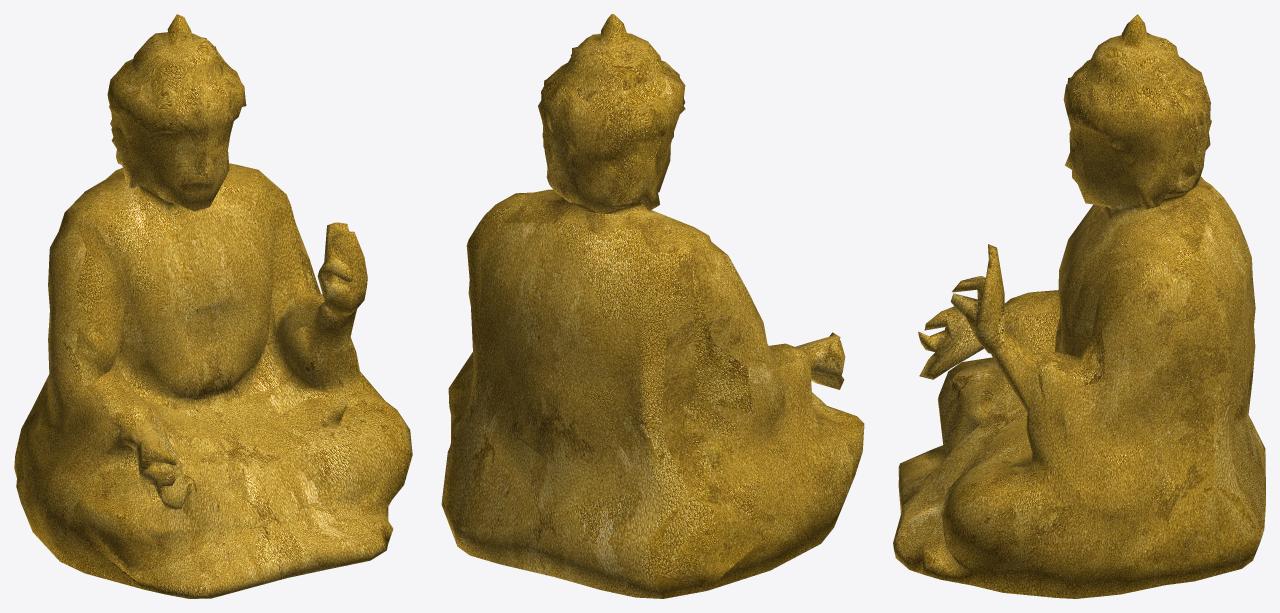
File: Buda.FBX
3 renders of one model, left to right at view 1: azimuth 30°, elevation 25°; view 2: azimuth 150°, elevation 25°; view 3: azimuth 270°, elevation 25°, orthographic. The views are drawn at different scales.
Parts seen in each view (by area): view 1: Buda; view 2: Buda; view 3: Buda.
Part boxes in pixels (x1,y1,x2,y2): Buda: [14, 14, 412, 598]; Buda: [441, 14, 864, 598]; Buda: [893, 14, 1265, 598].
Size of the model in its own units: 14.19 by 19.36 by 12.93.
Materials: 1 (1 with a texture image).
